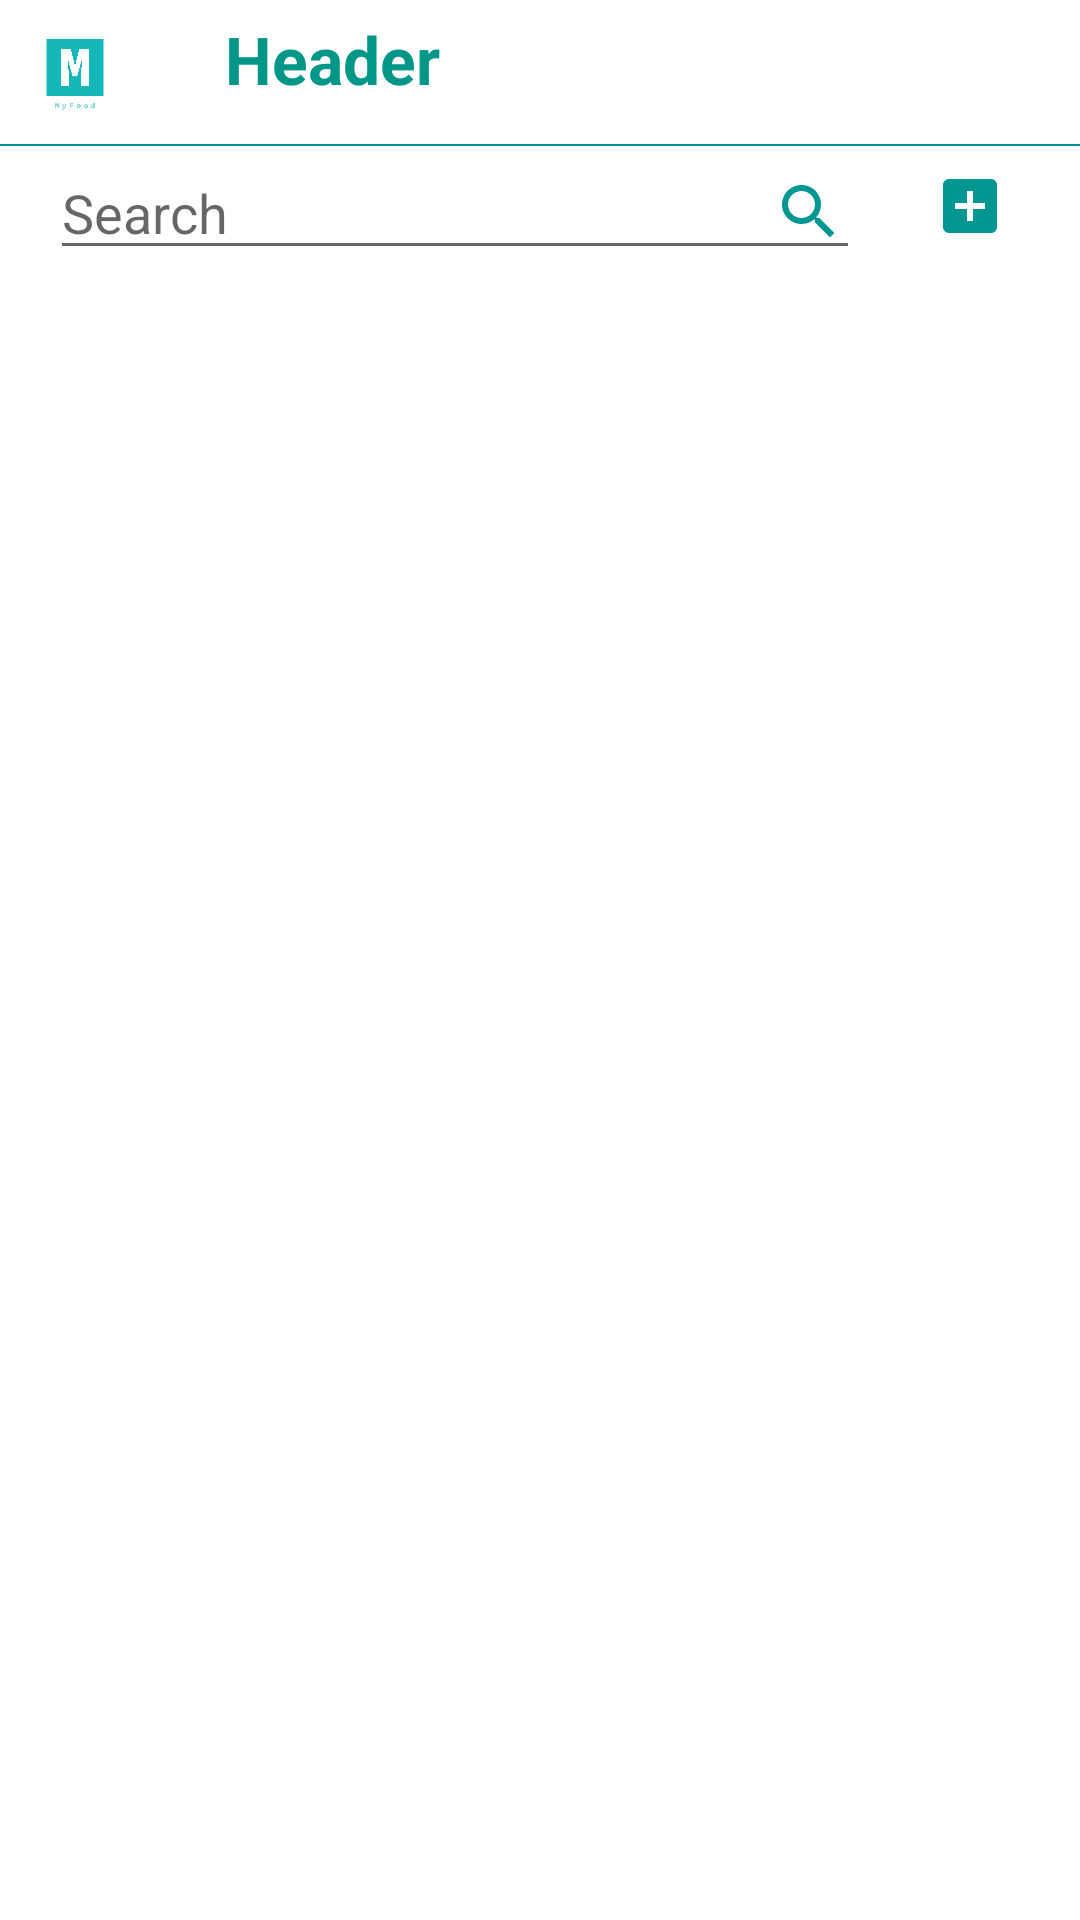

Icons on this 1080w x 1920h Android screen, each with the point to tap as (x,y):
add box: (970,206)
